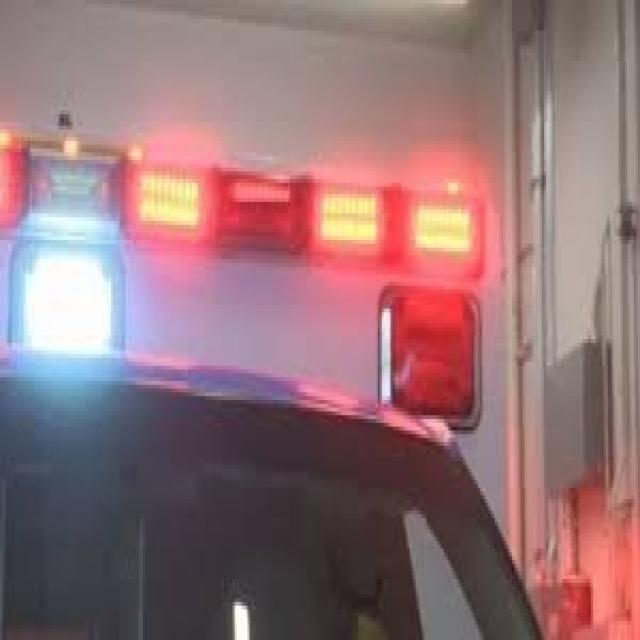ambulance: (9, 109, 506, 440)
